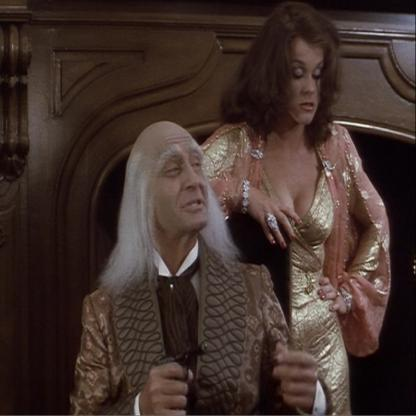gun: (150, 335, 222, 389)
